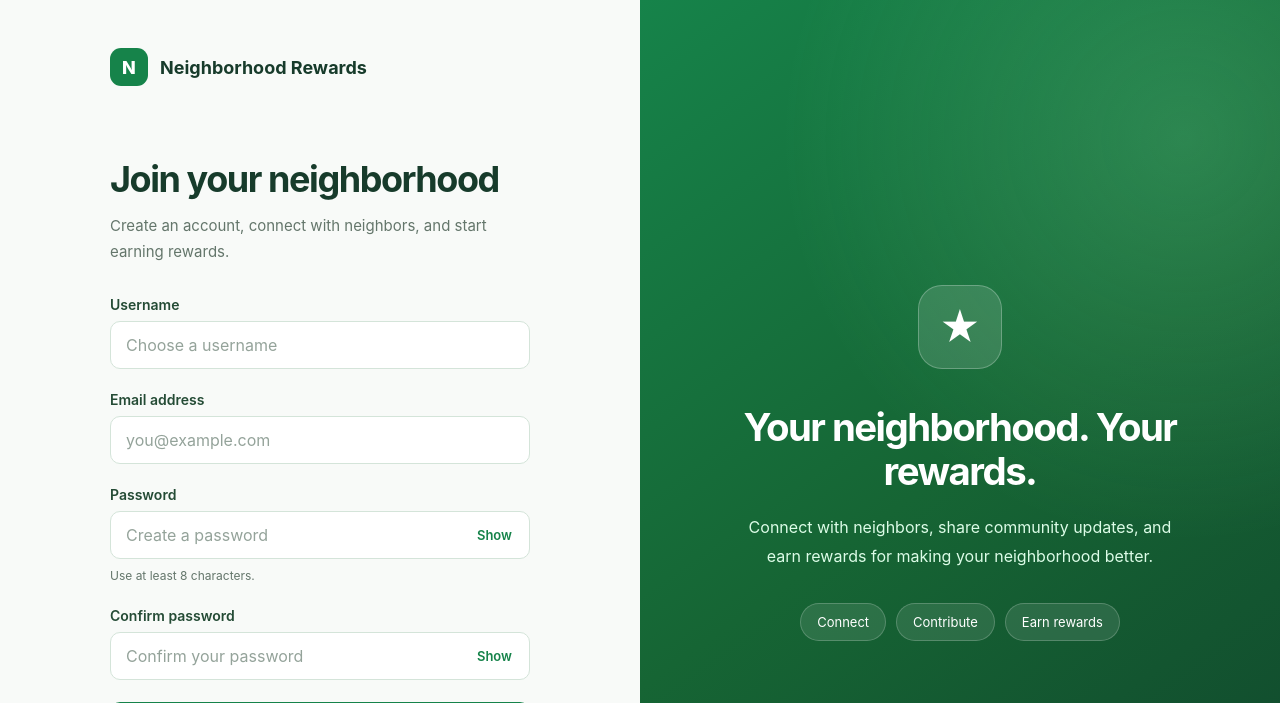
Test: Register Page › shows an error when registration fails
This screenshot has width=1280, height=703.
Type "neighbor123" into the field labelled "Username" at (320, 345), box [110,321,530,369]
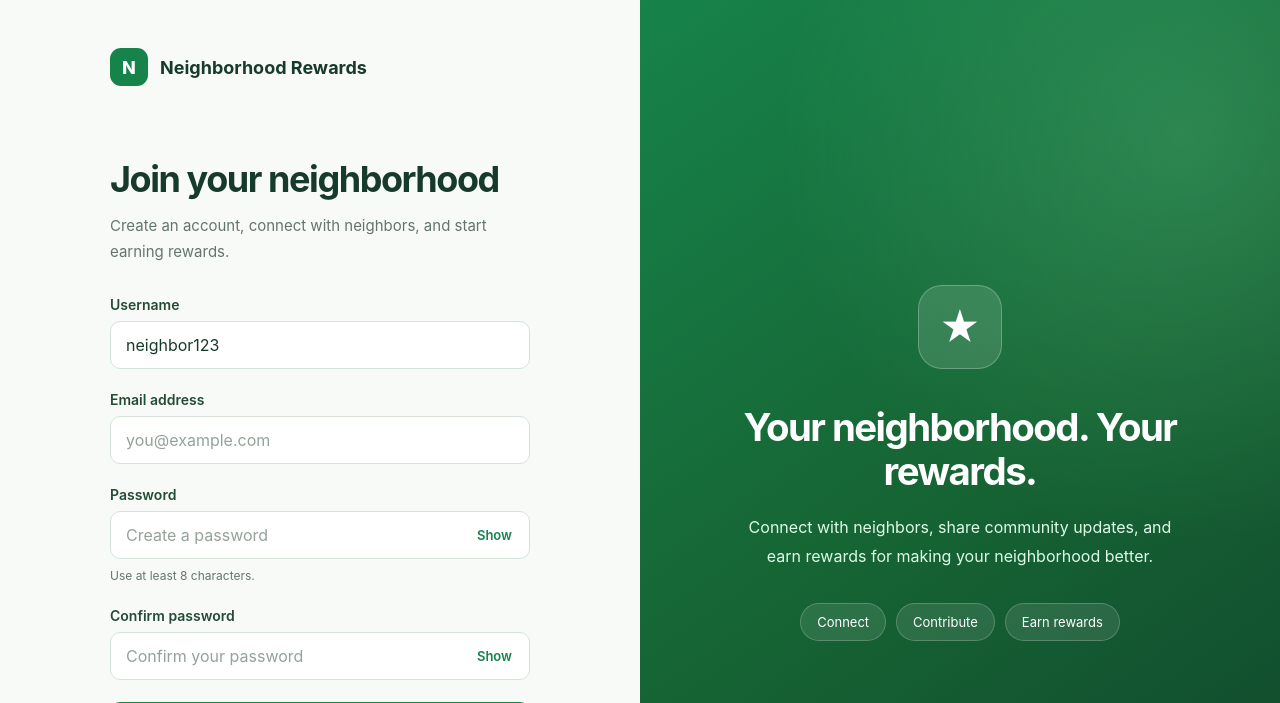
Type "neighbor@example.com" into the field labelled "Email address" at (320, 440), box [110,416,530,464]
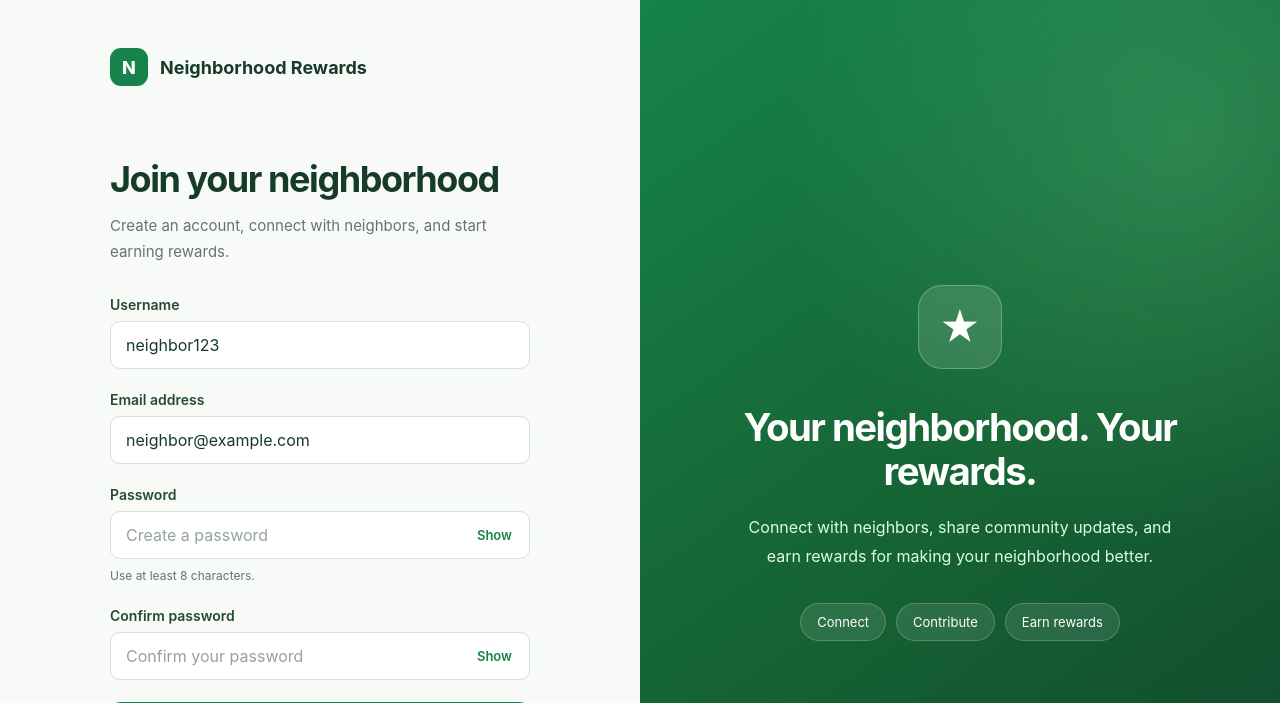
Type "SecurePassword123!" into the password field labelled "Password" at (320, 535), box [110,511,530,559]
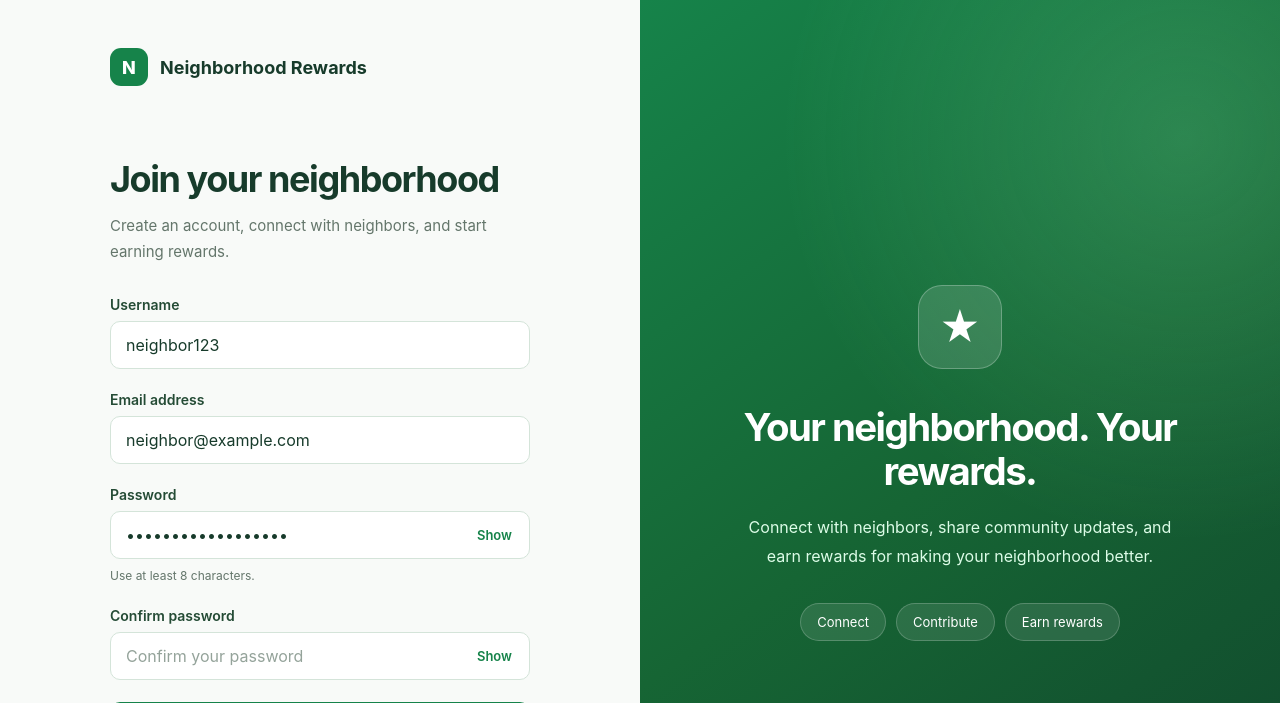
Type "SecurePassword123!" into the password field labelled "Confirm password" at (320, 656), box [110,632,530,680]
(page scrolled)
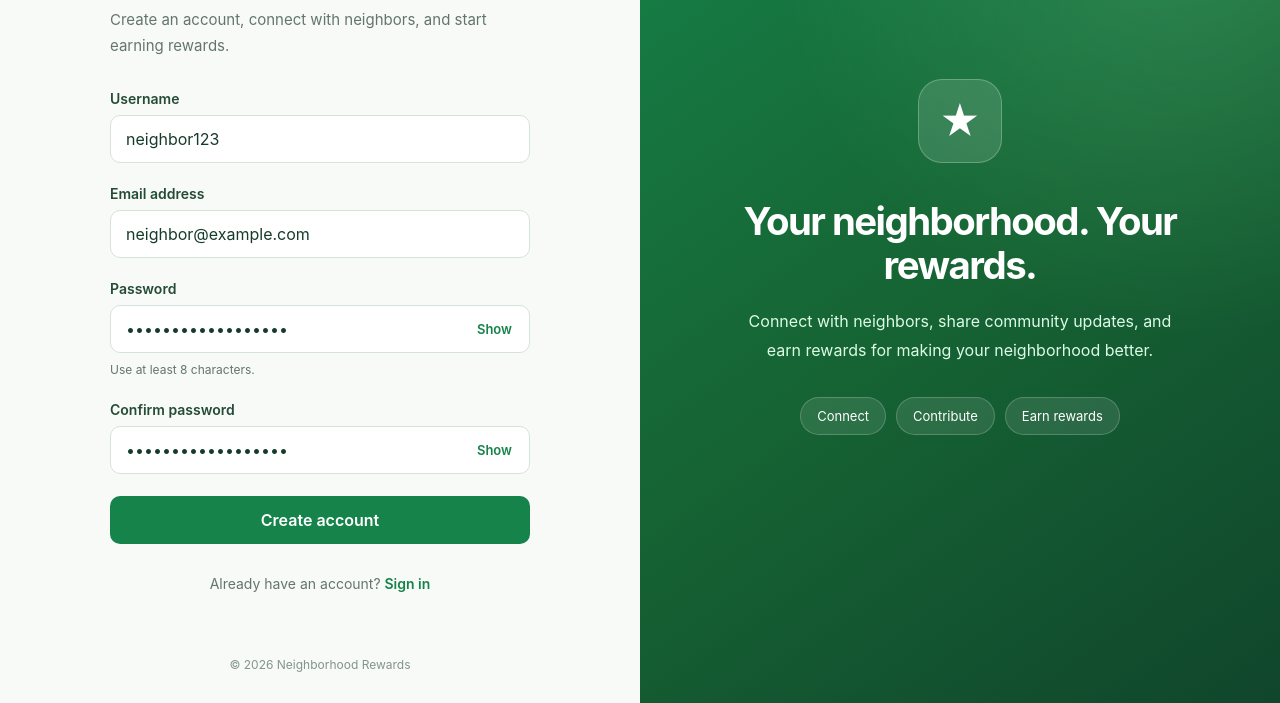
Click the button "Create account" at (320, 520), box [110,496,530,544]
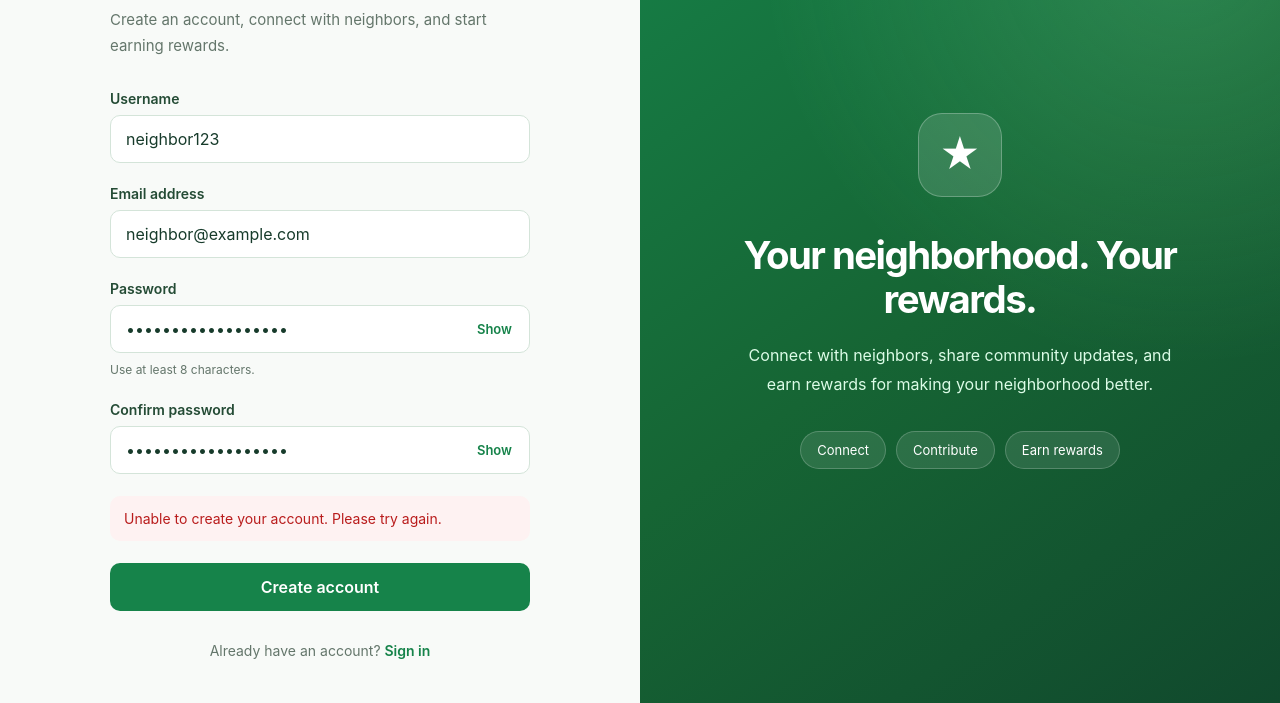
Expected: the text "Unable to create your account. Please try again." is shown, [110,496,530,541]
